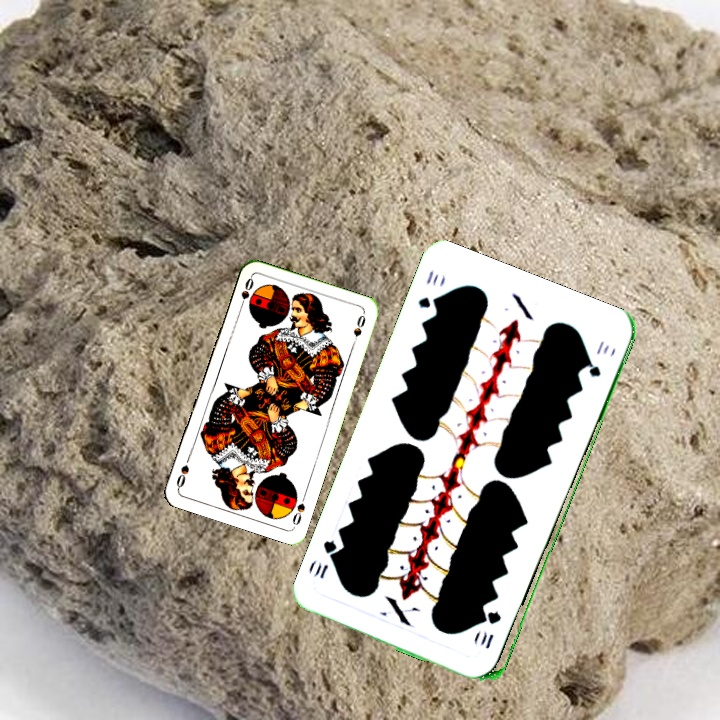G10: (414, 266, 443, 311), (481, 607, 504, 651)
SO: (235, 273, 256, 313), (288, 490, 309, 529)
